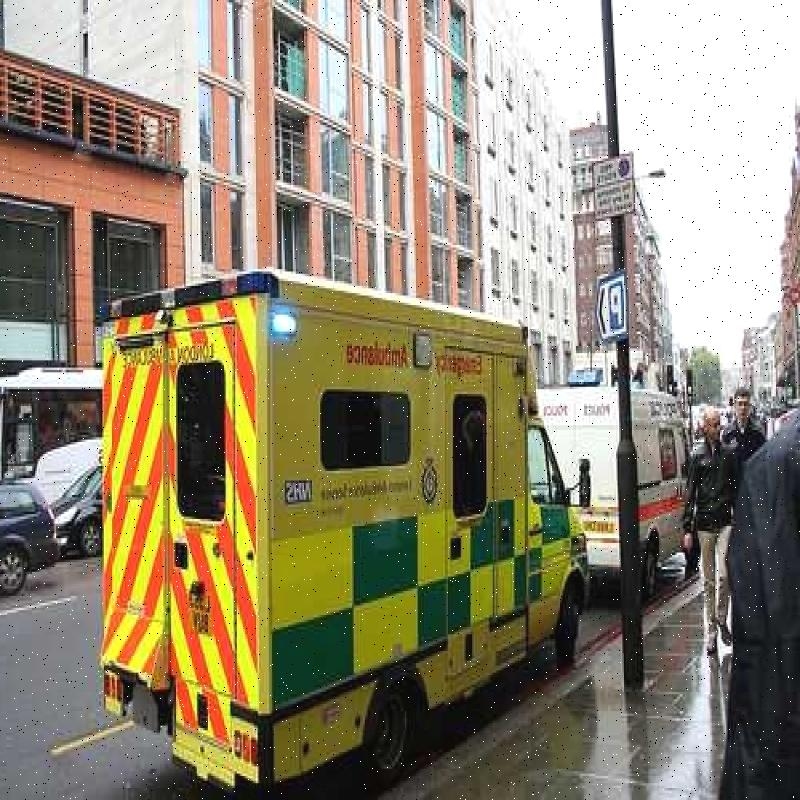AmbulanceSiren: (271, 296, 298, 353)
